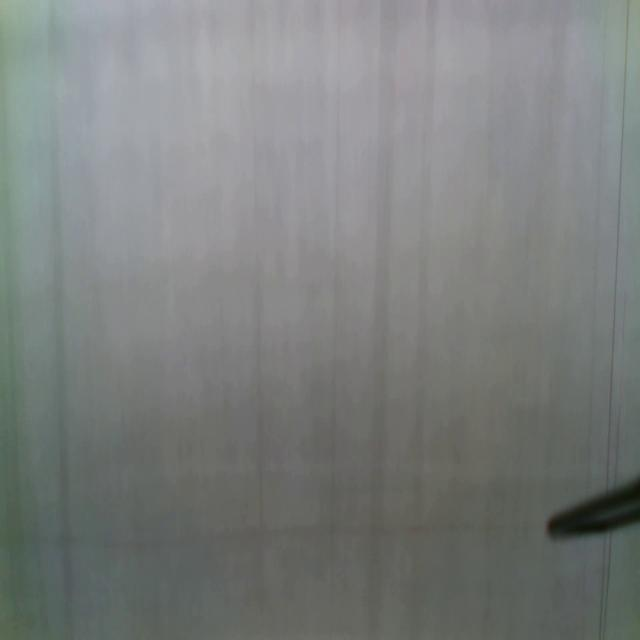color bleeding: (1, 510, 544, 554)
crease: (605, 0, 630, 490), (596, 529, 616, 640)
